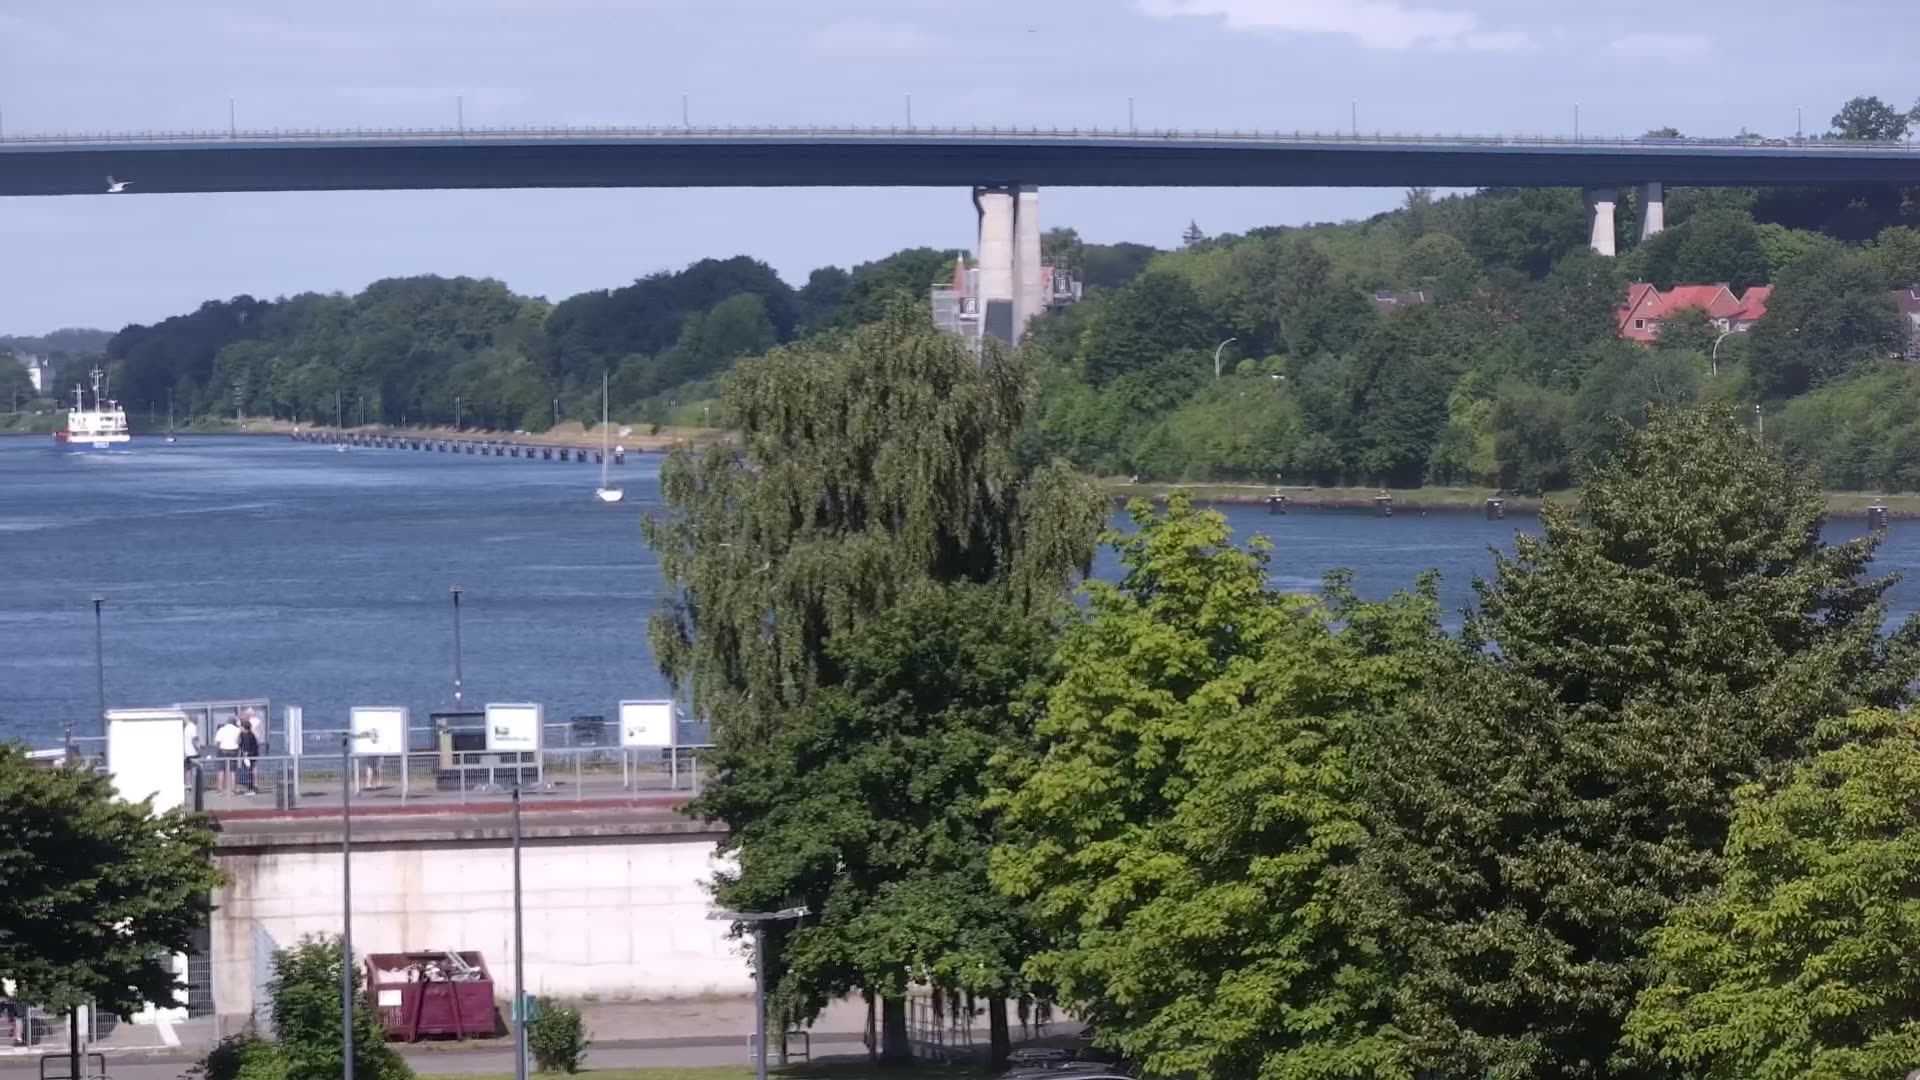human: (212, 715, 240, 794), (239, 720, 260, 795), (183, 711, 201, 792)
sea: (51, 360, 131, 452), (595, 368, 624, 502), (332, 387, 347, 452), (163, 399, 175, 441)
